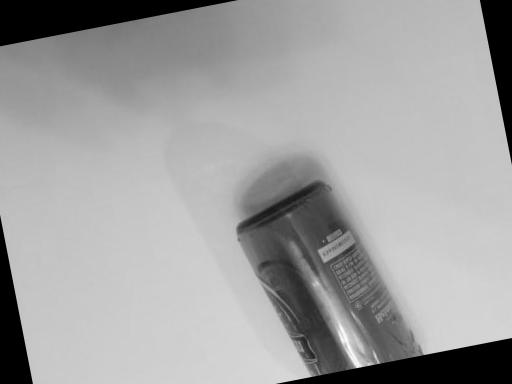glass: (193, 136, 495, 384)
